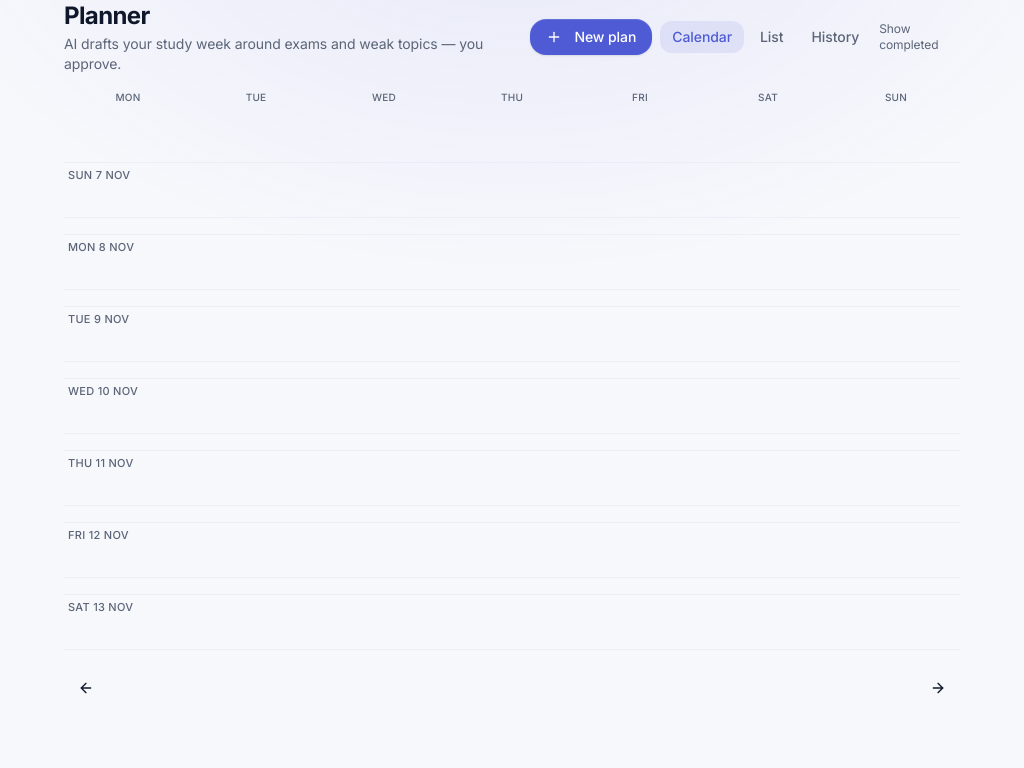
Test case: the create-plan dialog › closes on Cancel without creating a run and without throwing
Click the button "New plan": (591, 37) 530,19 -> 652,55
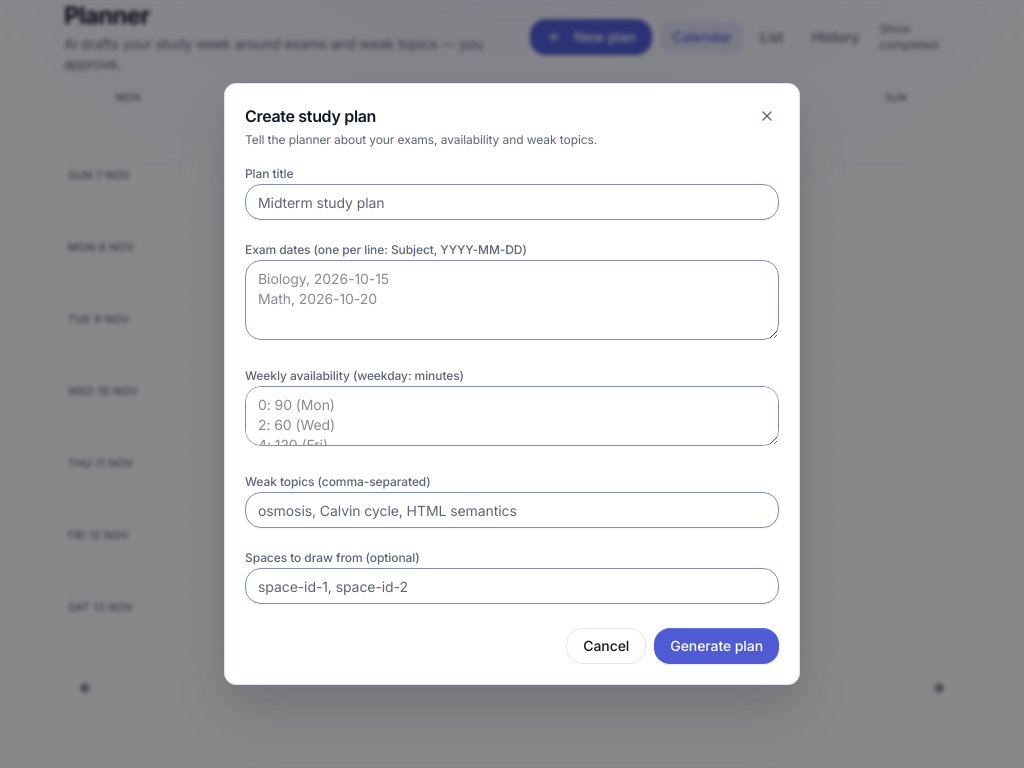
Click the button "Cancel": (606, 646) 566,628 -> 646,664
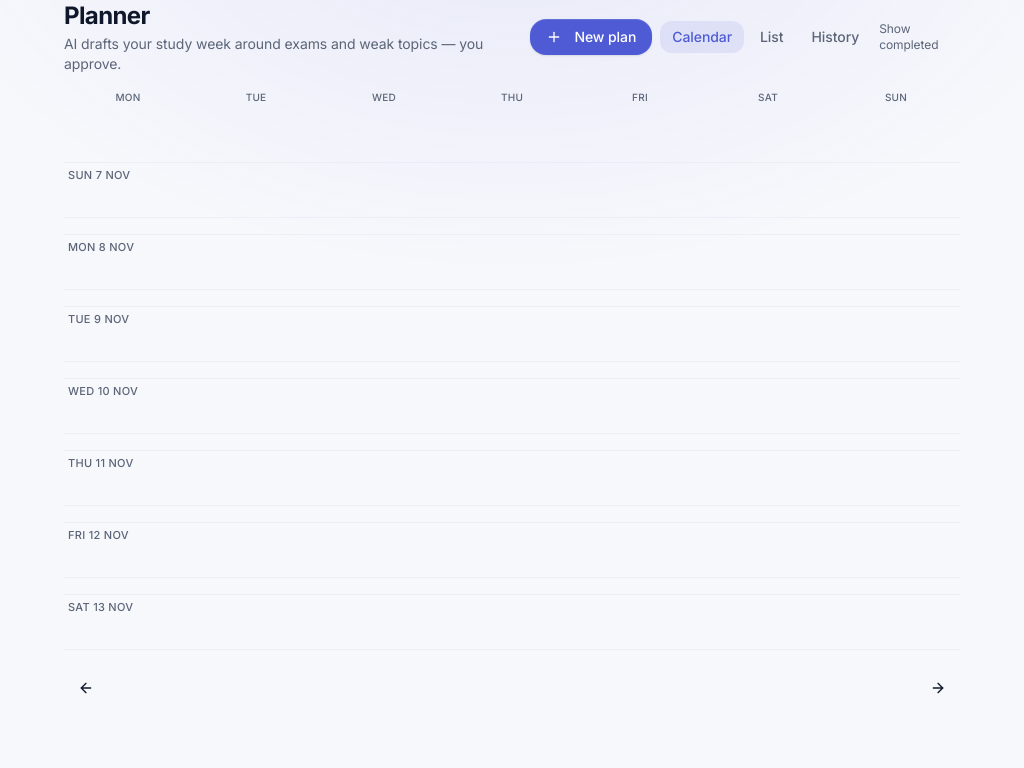
Check: the dialog is gone
